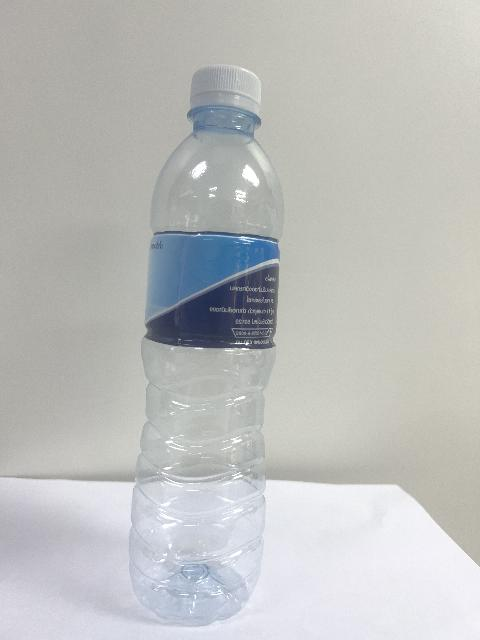bottle: (129, 65, 282, 625)
